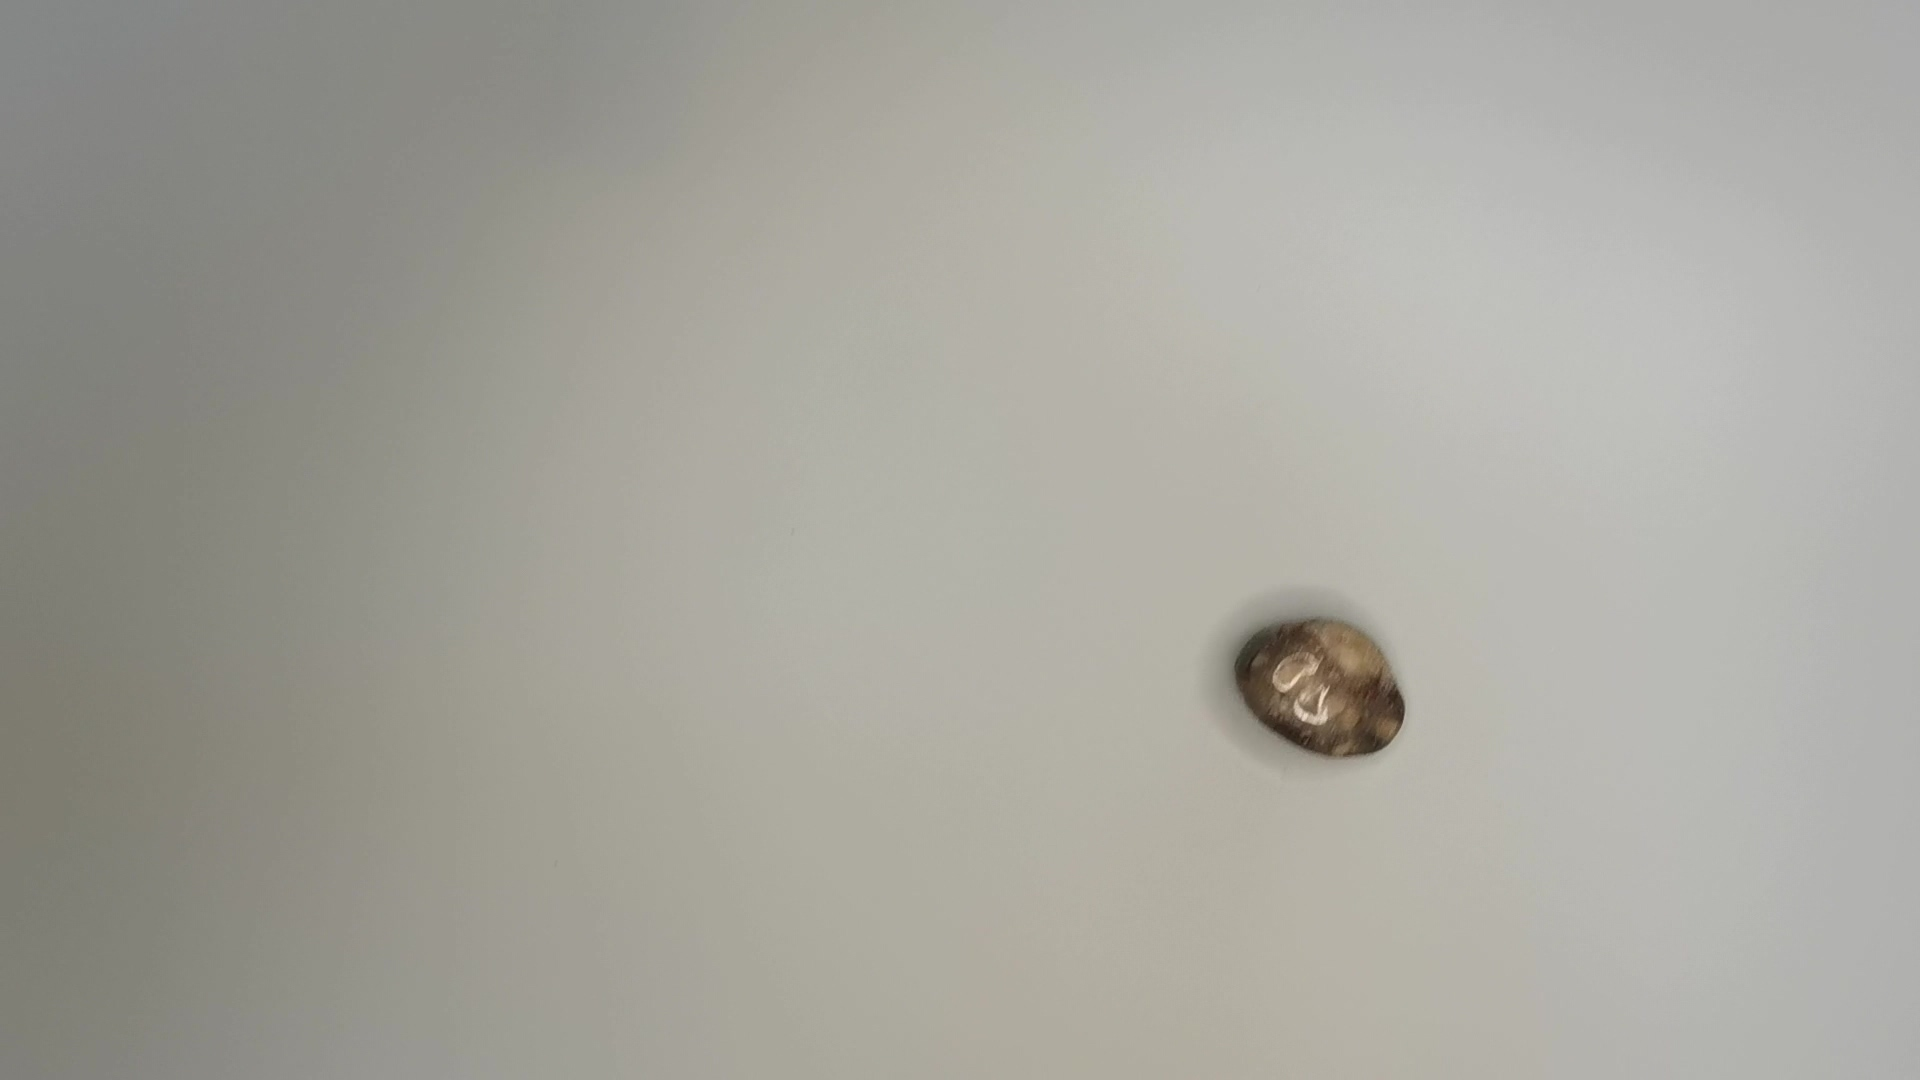ceramic: (1230, 613, 1422, 765)
